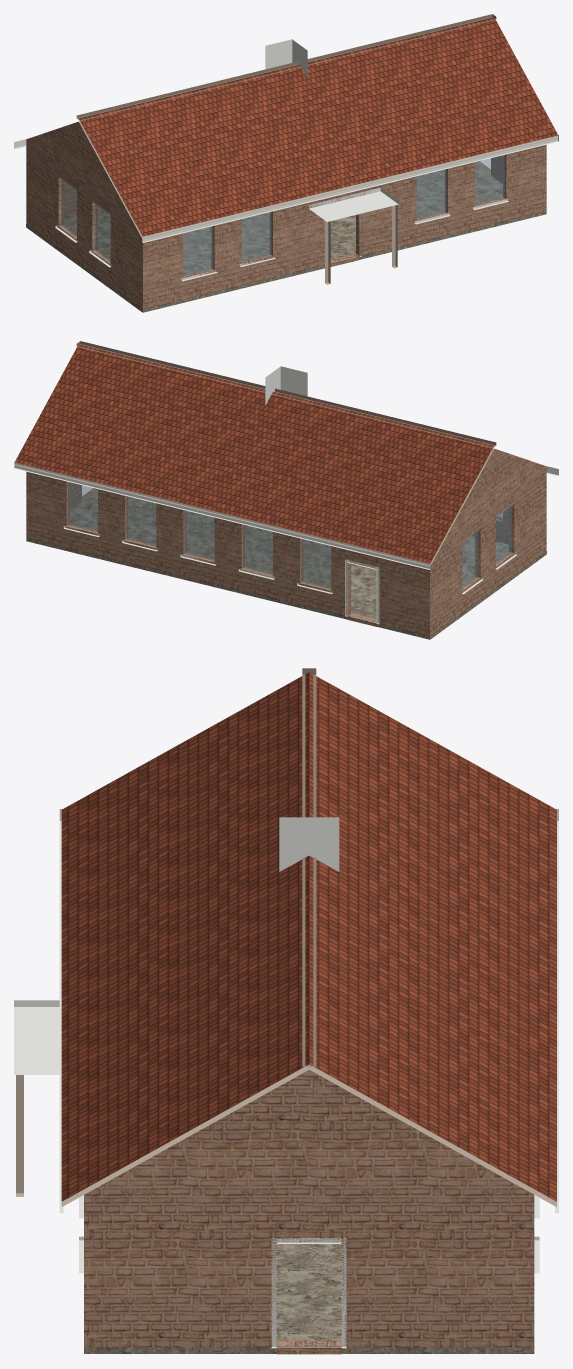
File: schoolhouse.glass-v1.lod1.glb
3 renders of one model, top to bottom at view 1: azimuth 30°, elevation 25°; view 2: azimuth 150°, elevation 25°; view 3: azimuth 270°, elevation 25°, orthographic. The views are drawn at different scales.
Visible parts, largest first — view 1: schoolhouse; view 2: schoolhouse; view 3: schoolhouse.
Boxes of the visible parts, box(x1,y1,x2,y2) form: schoolhouse: box(14, 14, 558, 312); schoolhouse: box(14, 341, 558, 639); schoolhouse: box(14, 668, 558, 1354).
Size of the model in its own units: 18.54 by 7.37 by 10.89.
Materials: 5 (3 with a texture image).
